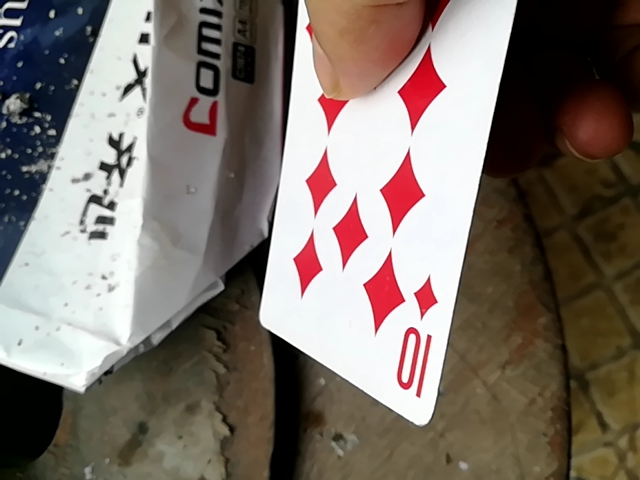fk 10: (253, 0, 528, 431)
